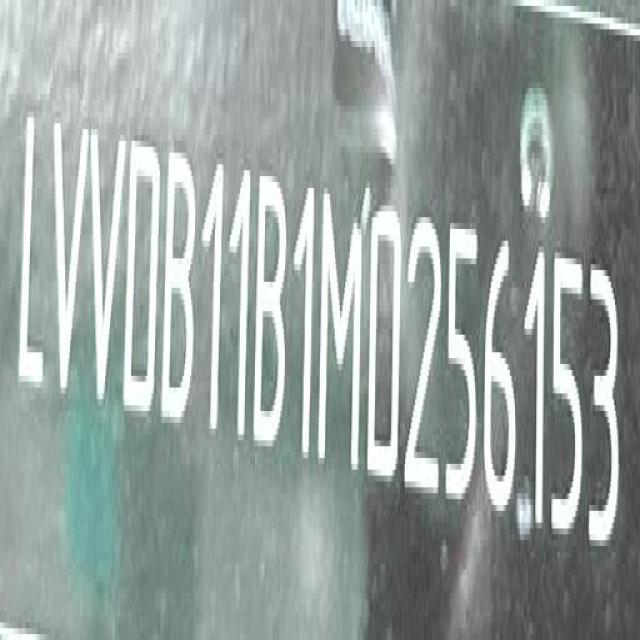1: (228, 161, 254, 439), (524, 233, 548, 533), (201, 144, 225, 424), (294, 178, 314, 466)
2: (404, 216, 442, 504)
3: (590, 252, 620, 555)
5: (550, 242, 586, 552), (444, 222, 478, 509)
6: (482, 224, 518, 520)
B: (161, 141, 197, 437), (254, 170, 289, 456)
D: (121, 141, 160, 422), (366, 195, 403, 480)
L: (18, 113, 46, 394)
M: (316, 190, 364, 478)
V: (50, 113, 90, 400), (87, 124, 127, 409)
